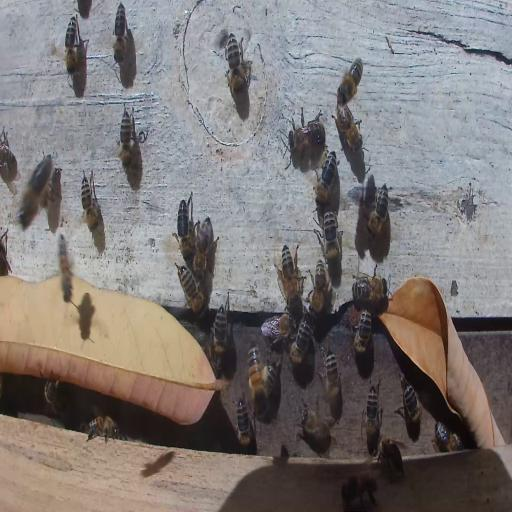bee: (19, 155, 52, 228), (55, 229, 78, 306), (287, 118, 326, 160), (224, 36, 249, 101), (276, 243, 303, 303), (192, 217, 217, 277), (398, 376, 422, 438), (299, 403, 332, 448), (80, 170, 102, 236), (176, 263, 205, 313), (342, 472, 379, 511), (247, 344, 269, 409), (334, 104, 363, 152), (175, 193, 196, 258), (318, 210, 342, 266), (314, 147, 337, 204), (378, 436, 406, 482), (367, 180, 390, 236), (338, 57, 363, 105), (347, 307, 373, 352), (352, 274, 389, 305), (82, 415, 121, 442), (201, 328, 223, 374), (235, 397, 254, 449), (322, 347, 339, 405), (309, 259, 327, 313), (289, 320, 311, 364), (261, 314, 294, 342), (1, 128, 18, 182), (364, 381, 380, 438), (118, 106, 132, 171), (113, 2, 127, 64), (433, 424, 462, 453), (64, 15, 77, 75), (212, 303, 226, 355), (44, 379, 59, 413), (1, 228, 11, 274)
